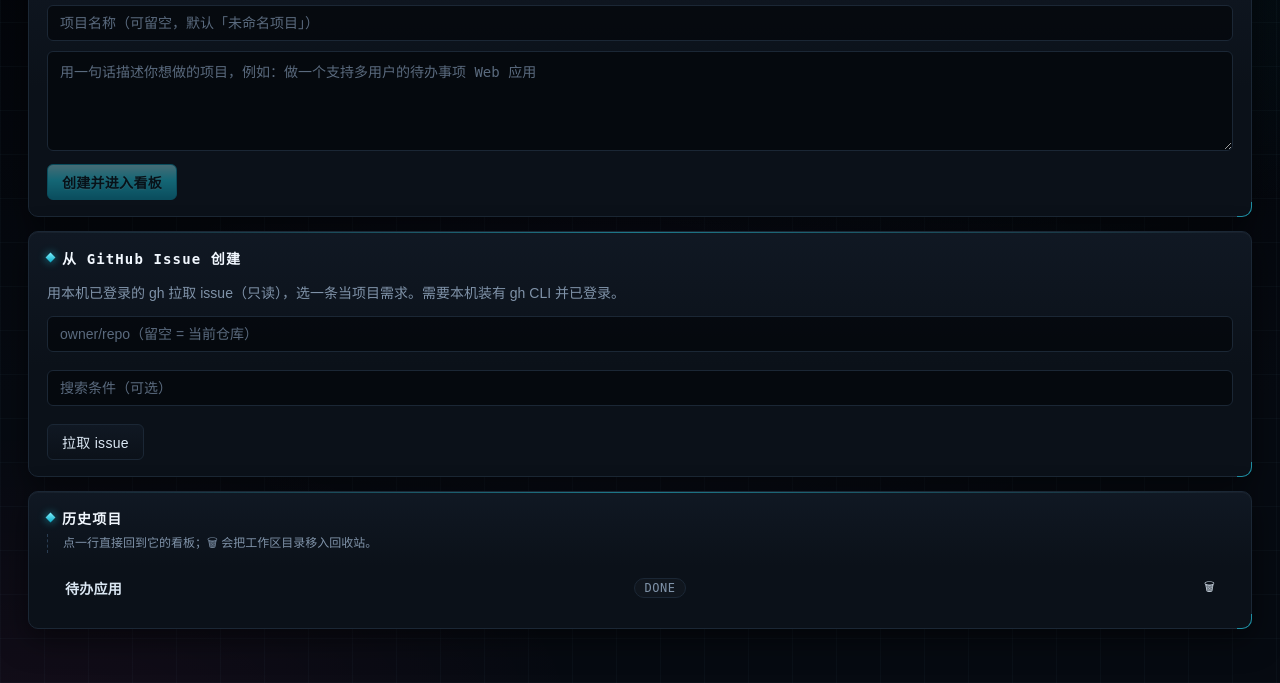
ProjectsPage › renders projects with stage chips and deletes after confirm
(page scrolled)
Expected: the text "待办应用" is shown, [65,578,122,598]
Expected: the text "DONE" is shown, [634,578,686,598]
Click the button titled "删除项目（工作区移入回收站）" at (1209, 588), box [1198,576,1221,601]
(page scrolled)
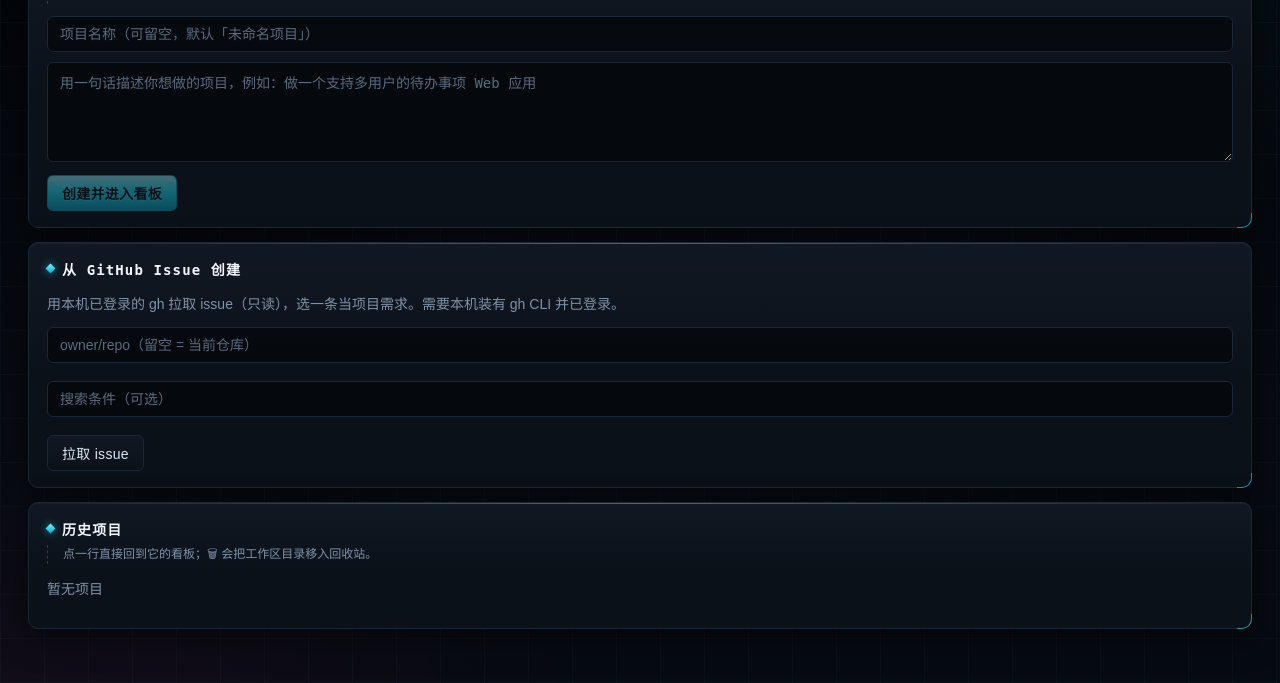
Expected: the text "待办应用" is gone
